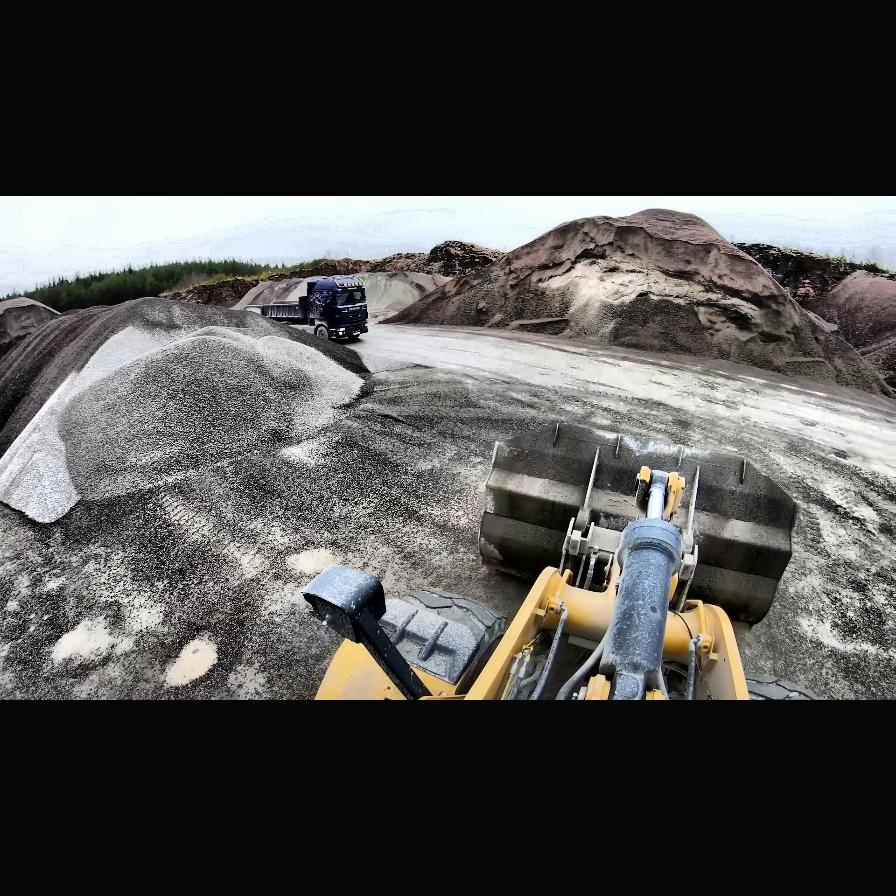anchor: (635, 466, 686, 522)
pile of gravel: (376, 206, 892, 396), (0, 307, 396, 531), (232, 268, 432, 322), (0, 296, 62, 356)
